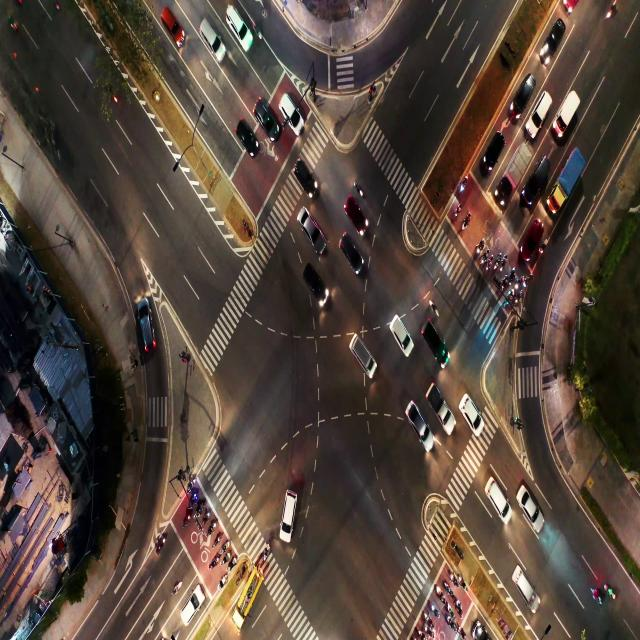bus: (248, 587, 254, 602)
car: (356, 338, 372, 373), (411, 405, 425, 435), (431, 391, 447, 417), (186, 592, 201, 615), (428, 328, 442, 350), (308, 271, 320, 293), (345, 240, 357, 259), (470, 401, 479, 425), (261, 106, 271, 127), (398, 320, 407, 343), (306, 213, 315, 236), (283, 502, 292, 524), (205, 26, 216, 44), (232, 10, 240, 34), (352, 208, 361, 228), (304, 168, 313, 188), (166, 16, 177, 32), (240, 125, 250, 142), (143, 318, 150, 340), (530, 227, 538, 246), (284, 104, 295, 116), (489, 146, 499, 159), (534, 173, 543, 185), (523, 81, 530, 96), (551, 30, 559, 43), (492, 484, 499, 498), (526, 500, 534, 512), (538, 105, 544, 118), (520, 580, 527, 590)
motorcycle: (431, 302, 441, 318), (159, 536, 166, 552), (460, 573, 466, 590), (354, 184, 362, 196), (210, 558, 217, 570), (221, 556, 228, 566), (446, 586, 453, 596), (608, 590, 616, 598), (509, 268, 516, 277), (203, 512, 209, 522), (222, 543, 228, 553), (439, 588, 444, 600), (461, 179, 467, 189), (520, 276, 525, 288), (508, 290, 513, 302), (594, 590, 599, 601), (220, 576, 225, 586), (496, 253, 501, 263), (216, 532, 220, 544), (451, 573, 455, 585), (450, 608, 454, 620), (453, 210, 461, 216), (479, 242, 484, 251), (198, 504, 202, 514), (210, 524, 214, 534), (457, 602, 461, 612), (427, 612, 431, 622), (503, 254, 507, 264), (265, 547, 269, 556), (192, 494, 196, 503), (462, 628, 466, 637), (482, 254, 488, 260), (503, 277, 507, 286), (175, 583, 180, 590), (433, 604, 436, 615), (231, 559, 235, 567), (428, 628, 432, 636), (451, 624, 455, 632), (486, 265, 491, 271), (466, 218, 470, 225), (188, 514, 190, 524), (190, 481, 192, 489)
truck: (516, 157, 525, 171), (569, 166, 577, 181), (564, 100, 571, 116)
